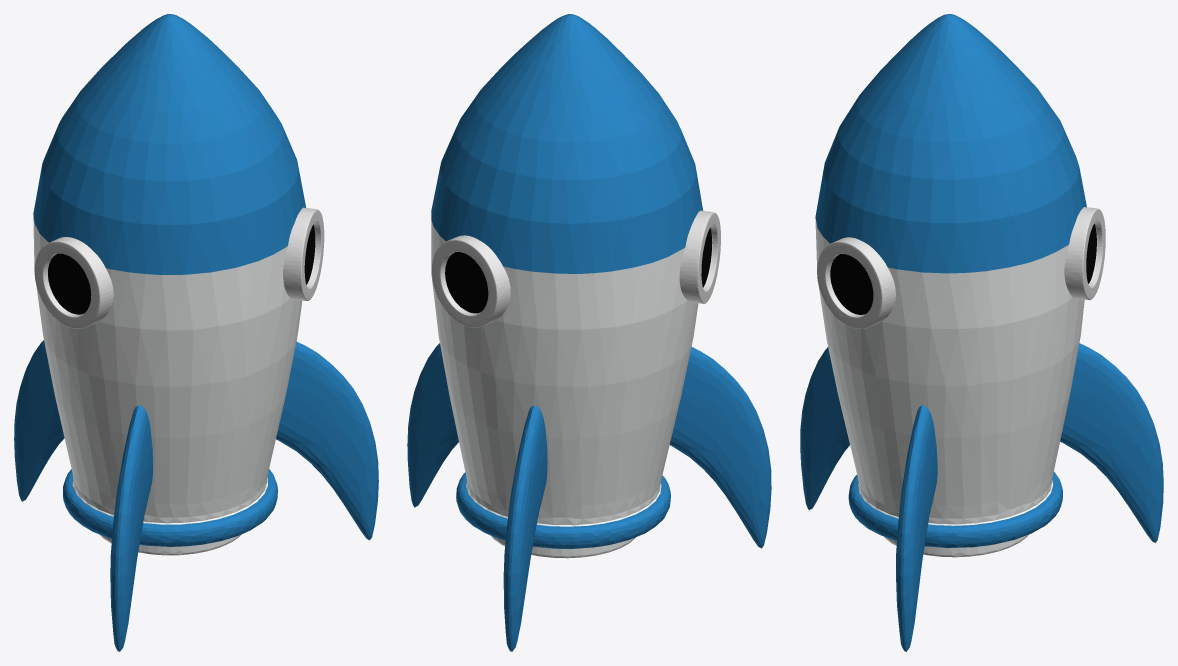
File: rocket-clean.glb
3 views of the same model, side by side, from view 1: azimuth 30°, elevation 25°; view 2: azimuth 150°, elevation 25°; view 3: azimuth 270°, elevation 25° (orthographic).
Visible parts, largest first — view 1: razzo.004; view 2: razzo.004; view 3: razzo.004.
Part boxes in pixels (x1,y1,x2,y2): razzo.004: (14,14,378,651); razzo.004: (407,14,771,651); razzo.004: (800,14,1163,651).
Size of the model in its own units: 3.85 by 6.45 by 3.83.
